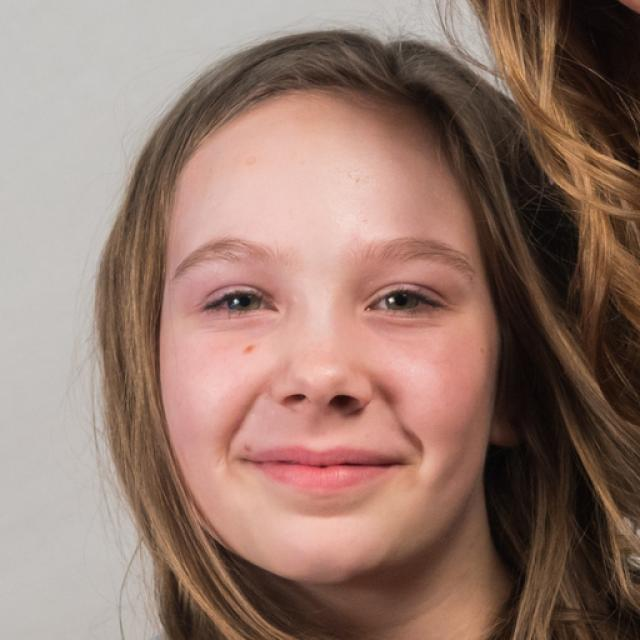Acne: (235, 339, 260, 362)
